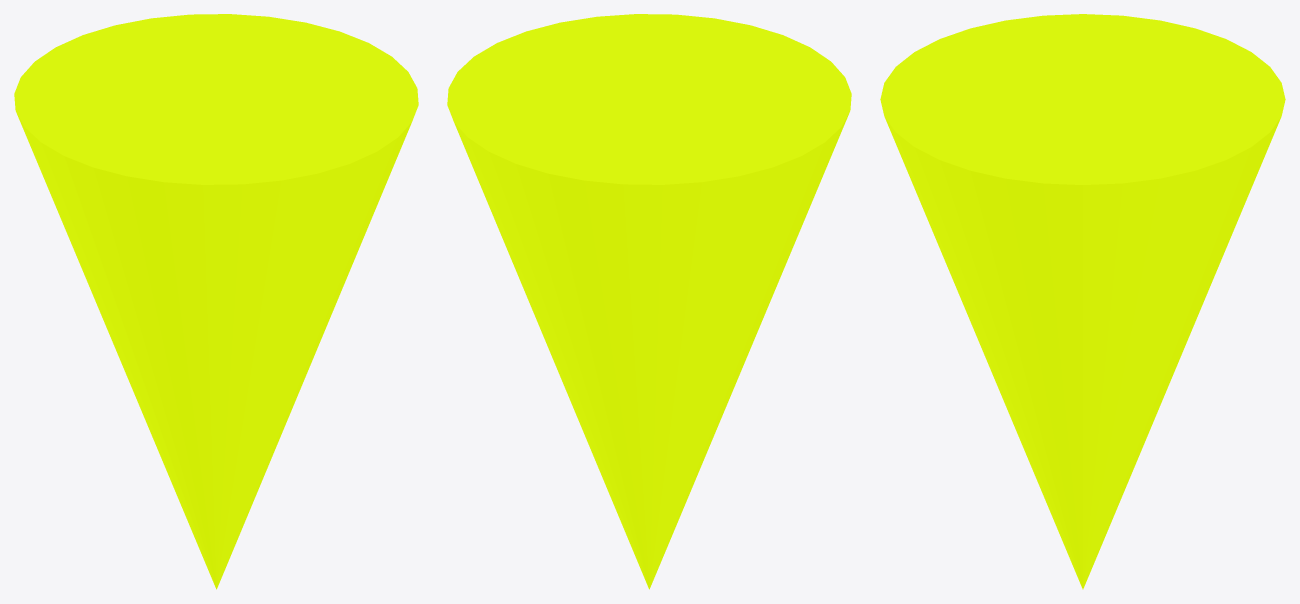
File: arrow_circle.glb
3 renders of one model, left to right at view 1: azimuth 30°, elevation 25°; view 2: azimuth 150°, elevation 25°; view 3: azimuth 270°, elevation 25°, orthographic.
Visible parts, largest first — view 1: Cone; view 2: Cone; view 3: Cone.
Boxes of the visible parts, x1,y1,x2,y2 form: Cone: [14, 14, 418, 589]; Cone: [447, 14, 851, 589]; Cone: [880, 14, 1285, 589].
Size of what is drawn, in the model's own units: 0.0783 by 0.1046 by 0.0783.
